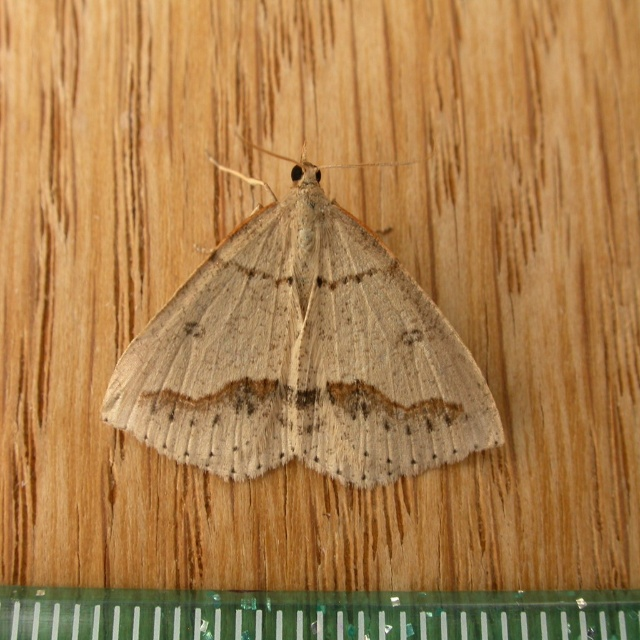Butterfly: (99, 114, 506, 505)
